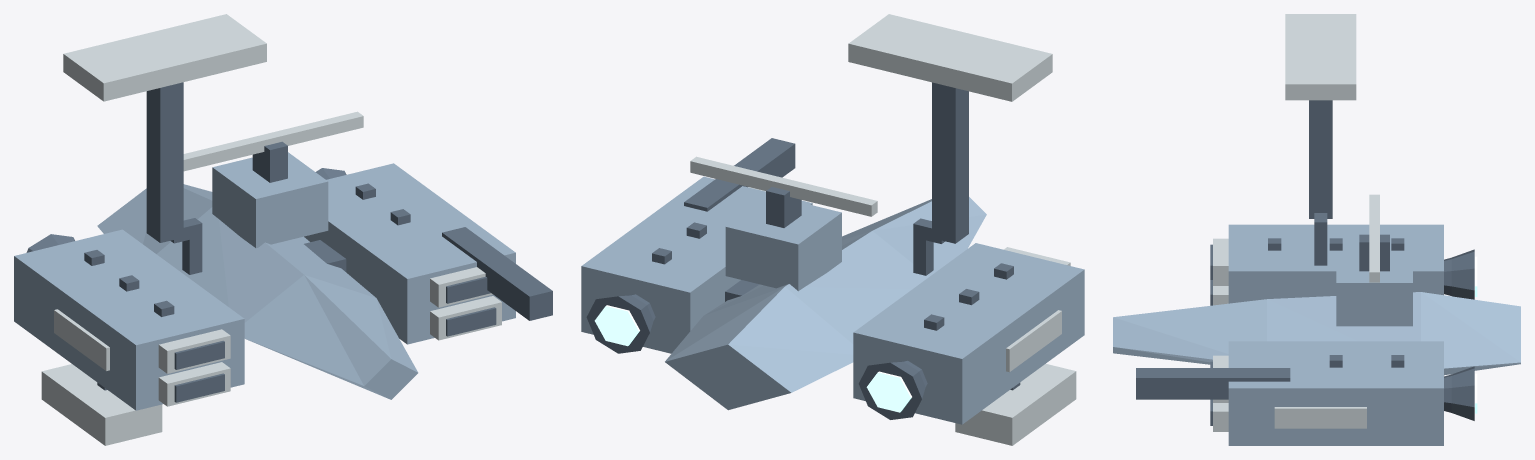
3 renders of one model, left to right at view 1: azimuth 30°, elevation 25°; view 2: azimuth 150°, elevation 25°; view 3: azimuth 270°, elevation 25°, orthographic. The views are drawn at different scales.
Bounding box in the file's own units: 13.54 × 11.5 × 13.72.
